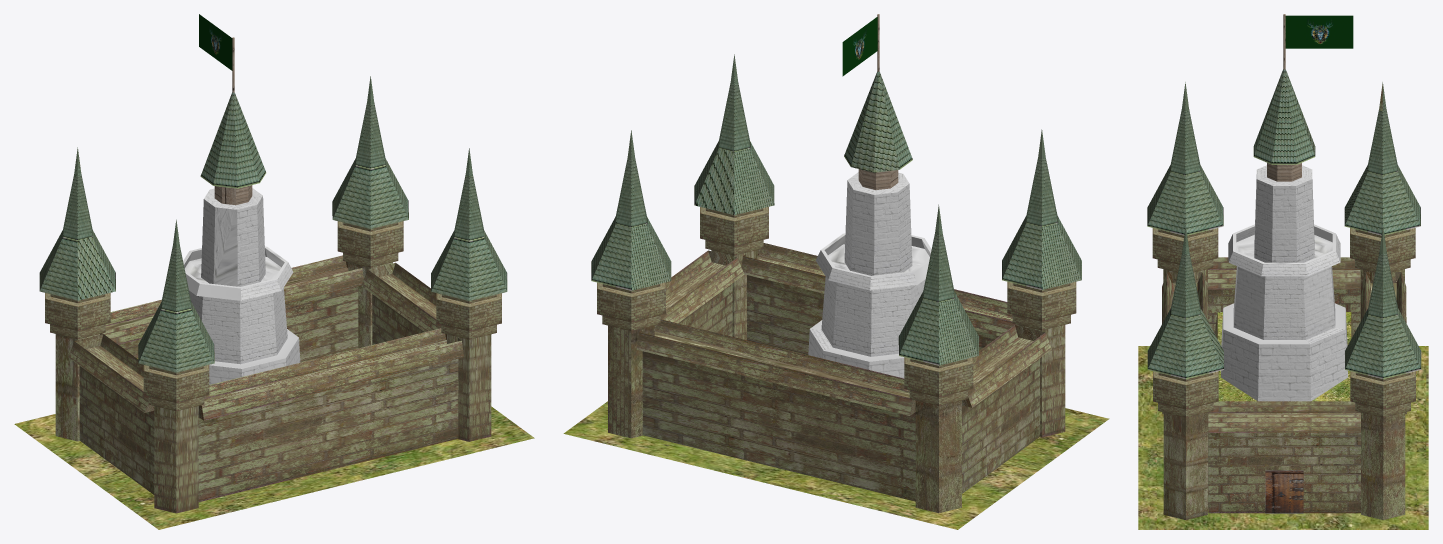
3 views of the same model, side by side, from view 1: azimuth 30°, elevation 25°; view 2: azimuth 150°, elevation 25°; view 3: azimuth 270°, elevation 25° (orthographic). The views are drawn at different scales.
Parts seen in each view (by area): view 1: Muro_Izquierda, Edificio, Suelo, Muro_Detras, Muro_Derecha, Torre1_Tejado, Torre4_Tejado, Torre3_Tejado, Torre2_Tejado, Torre4_Base, Muro_Delante, Edificio_Tejado (+9 smaller); view 2: Muro_Derecha, Edificio, Suelo, Muro_Detras, Muro_Izquierda, Torre2_Tejado, Torre1_Tejado, Torre3_Tejado, Torre4_Tejado, Torre3_Base, Muro_Delante, Edificio_Tejado (+9 smaller); view 3: Edificio, Muro_Delante, Suelo, Torre2_Tejado, Torre1_Tejado, Torre4_Tejado, Torre3_Tejado, Torre1_Base, Torre2_Base, Edificio_Tejado, Muro_Detras, Torre1_Almena (+9 smaller).
Part boxes in pixels (left/top/right/bottom): Muro_Izquierda: left=198, top=328, right=463, bottom=502; Edificio: left=183, top=188, right=300, bottom=384; Suelo: left=14, top=406, right=534, bottom=529; Muro_Detras: left=68, top=334, right=154, bottom=494; Muro_Derecha: left=100, top=255, right=363, bottom=362; Torre1_Tejado: left=431, top=148, right=507, bottom=300; Torre4_Tejado: left=138, top=219, right=214, bottom=372; Torre3_Tejado: left=39, top=147, right=115, bottom=300; Torre2_Tejado: left=332, top=76, right=408, bottom=228; Torre4_Base: left=154, top=406, right=198, bottom=513; Muro_Delante: left=361, top=262, right=441, bottom=344; Edificio_Tejado: left=200, top=92, right=266, bottom=188; Muro_Derecha: left=636, top=319, right=915, bottom=501; Edificio: left=808, top=172, right=931, bottom=378; Suelo: left=563, top=401, right=1109, bottom=529; Muro_Detras: left=962, top=325, right=1051, bottom=493; Muro_Izquierda: left=741, top=243, right=1018, bottom=354; Torre2_Tejado: left=591, top=130, right=671, bottom=290; Torre1_Tejado: left=694, top=54, right=774, bottom=214; Torre3_Tejado: left=898, top=204, right=978, bottom=365; Torre4_Tejado: left=1002, top=129, right=1081, bottom=289; Torre3_Base: left=915, top=400, right=961, bottom=513; Muro_Delante: left=660, top=250, right=744, bottom=336; Edificio_Tejado: left=844, top=71, right=912, bottom=172; Edificio: left=1221, top=165, right=1347, bottom=401; Muro_Delante: left=1208, top=401, right=1360, bottom=513; Suelo: left=1138, top=346, right=1428, bottom=529; Torre2_Tejado: left=1345, top=225, right=1421, bottom=378; Torre1_Tejado: left=1147, top=225, right=1223, bottom=378; Torre4_Tejado: left=1147, top=82, right=1223, bottom=235; Torre3_Tejado: left=1344, top=82, right=1420, bottom=235; Torre1_Base: left=1163, top=412, right=1207, bottom=519; Torre2_Base: left=1361, top=412, right=1405, bottom=519; Edificio_Tejado: left=1253, top=69, right=1315, bottom=164; Muro_Detras: left=1207, top=257, right=1360, bottom=333; Torre1_Almena: left=1153, top=371, right=1218, bottom=417.
Bounding box in the file's own units: 1500 × 1535 × 1000.
